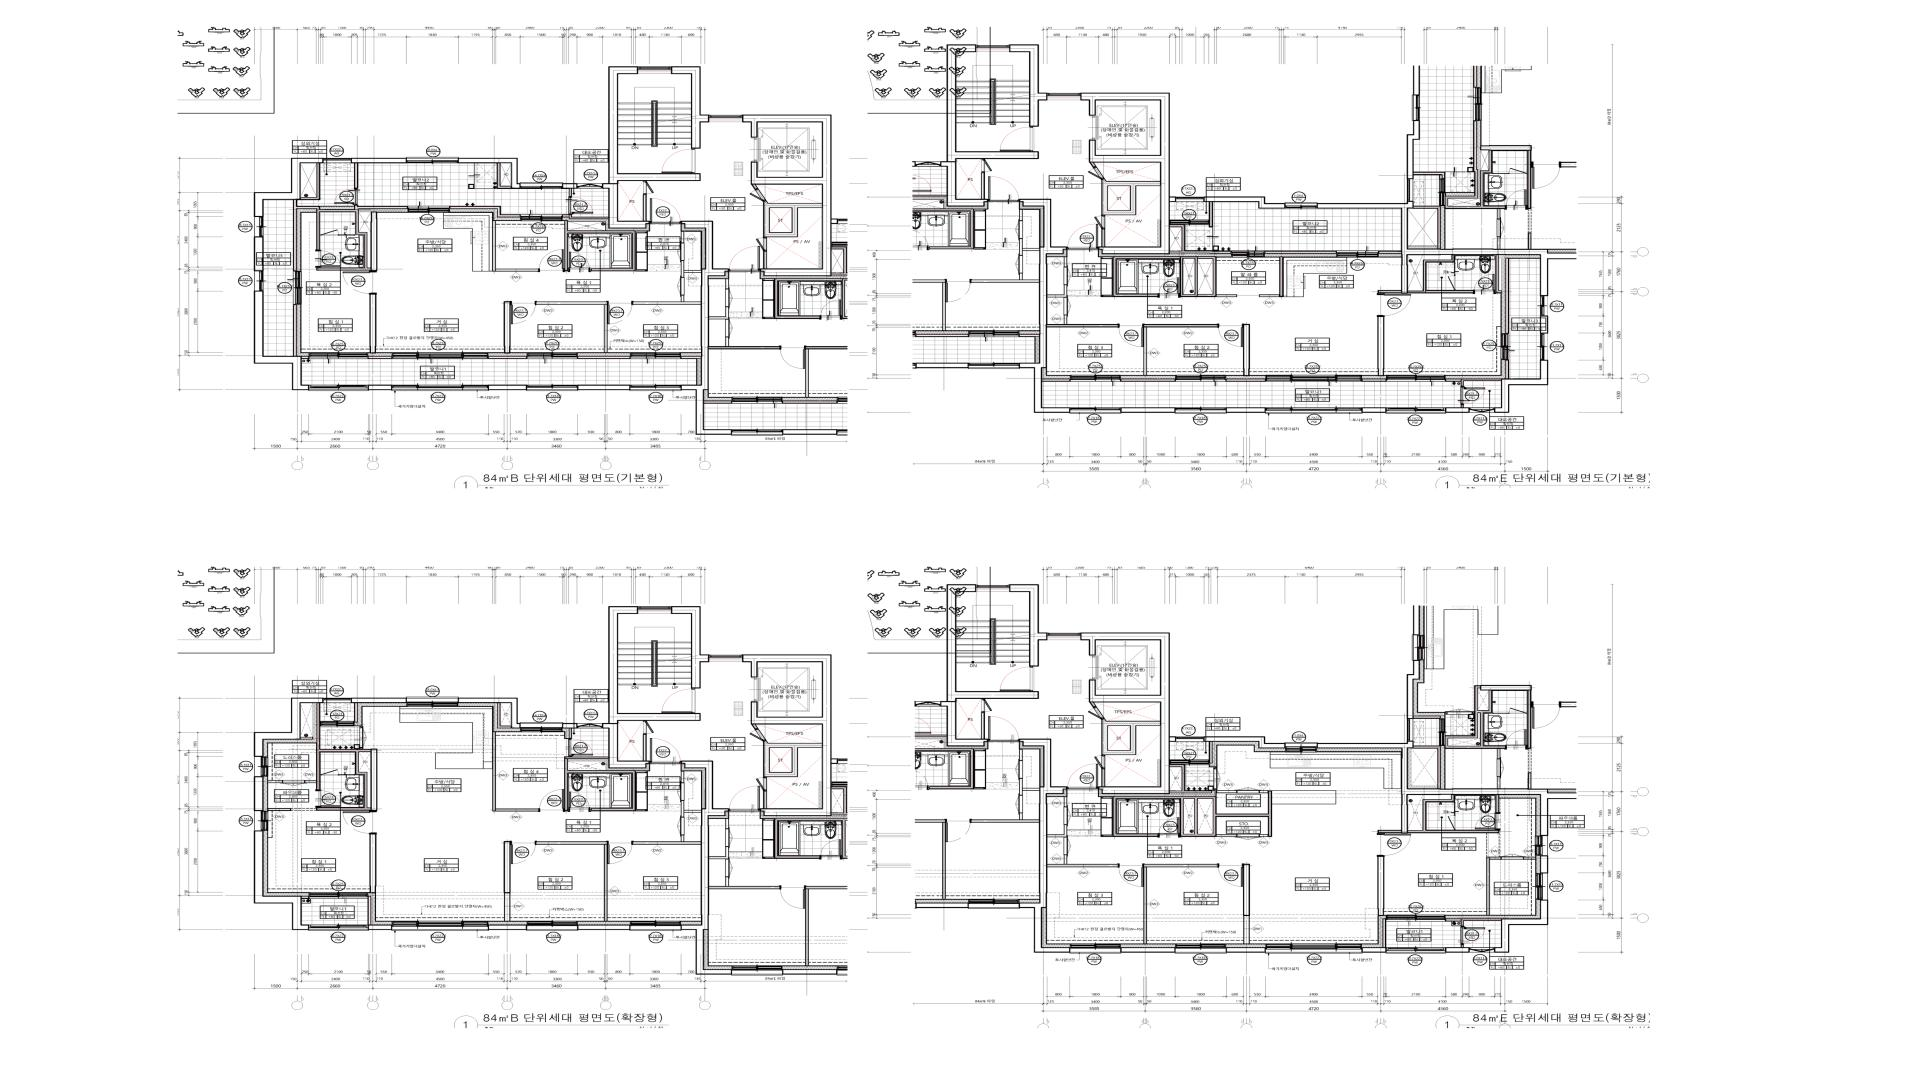door: (662, 688, 696, 713), (1000, 127, 1034, 152), (661, 149, 696, 173), (649, 198, 680, 224), (1067, 224, 1098, 251), (1377, 833, 1411, 857), (1000, 667, 1034, 691), (343, 270, 377, 294), (650, 738, 680, 765), (1068, 764, 1098, 790), (1377, 294, 1411, 316), (343, 811, 377, 833), (729, 247, 760, 272), (1118, 864, 1145, 887), (607, 841, 633, 865), (1218, 323, 1244, 347), (1118, 323, 1143, 347), (1217, 864, 1242, 887), (510, 841, 537, 864), (538, 249, 564, 272), (539, 790, 564, 812), (608, 302, 633, 324), (510, 302, 535, 324), (1158, 277, 1180, 298), (568, 791, 591, 812), (1461, 386, 1486, 405), (568, 738, 593, 757), (1461, 926, 1486, 944), (568, 196, 593, 215), (315, 249, 340, 268), (1158, 818, 1180, 837), (568, 252, 591, 272), (315, 790, 340, 807), (1476, 812, 1501, 829), (1474, 274, 1495, 294), (334, 189, 357, 204), (748, 729, 766, 745), (749, 189, 766, 204), (1087, 707, 1105, 721), (1085, 167, 1105, 181), (754, 237, 767, 252), (1213, 767, 1221, 790), (1093, 754, 1105, 769), (756, 777, 767, 791), (981, 699, 993, 712), (360, 727, 367, 749), (1502, 853, 1524, 860), (1237, 787, 1259, 794), (1095, 215, 1105, 228), (981, 160, 992, 173), (644, 721, 654, 735), (1448, 274, 1456, 290), (644, 182, 654, 194), (320, 229, 339, 236), (320, 769, 339, 775), (1237, 835, 1259, 840), (1448, 815, 1456, 829), (284, 781, 305, 786)
wall: (1316, 200, 1548, 297), (1316, 742, 1548, 836), (603, 66, 702, 228), (603, 607, 700, 769), (1080, 632, 1176, 794), (1081, 92, 1176, 255), (945, 584, 1039, 746), (947, 45, 1039, 207), (742, 115, 831, 276), (742, 655, 831, 816), (1019, 738, 1071, 953), (680, 222, 732, 435), (680, 761, 732, 975), (1019, 199, 1071, 413), (293, 200, 407, 272), (1113, 791, 1273, 837), (1143, 864, 1217, 945), (316, 703, 371, 811), (537, 841, 608, 922), (255, 291, 309, 390), (255, 831, 309, 930), (1113, 256, 1217, 297), (253, 158, 323, 218), (253, 698, 323, 757), (1143, 324, 1217, 376), (492, 732, 539, 811), (564, 220, 636, 272), (564, 760, 636, 811), (537, 302, 607, 352), (1407, 795, 1498, 833), (671, 66, 709, 149), (671, 605, 709, 688), (1009, 584, 1047, 666), (1010, 45, 1047, 127), (443, 212, 493, 272), (1494, 360, 1548, 413), (1494, 901, 1548, 953), (1408, 256, 1474, 293), (493, 222, 538, 272), (764, 740, 822, 777), (764, 200, 822, 237), (1101, 719, 1160, 754), (1101, 179, 1160, 215), (458, 158, 521, 189), (459, 698, 521, 728), (1170, 224, 1232, 253), (1170, 764, 1212, 794), (1204, 196, 1286, 208), (1204, 737, 1286, 749), (1047, 855, 1118, 868), (1486, 857, 1502, 915), (450, 206, 521, 218), (1047, 315, 1118, 327), (301, 164, 320, 200), (1242, 864, 1250, 944), (633, 295, 702, 305), (633, 836, 700, 845), (1197, 799, 1213, 833), (770, 208, 793, 232), (504, 841, 510, 922), (371, 749, 377, 811), (369, 294, 376, 353), (369, 835, 376, 894), (1378, 316, 1385, 376), (371, 212, 377, 270), (680, 261, 702, 278), (253, 237, 264, 272), (680, 800, 702, 818), (253, 777, 264, 811), (504, 302, 510, 353), (1244, 324, 1250, 376), (497, 164, 510, 189), (497, 703, 510, 728), (1461, 378, 1501, 386), (1378, 857, 1383, 915), (351, 158, 407, 164), (351, 698, 407, 703), (1506, 258, 1510, 334), (1121, 407, 1176, 413), (1121, 948, 1175, 953), (576, 924, 630, 930), (578, 385, 630, 390), (1461, 919, 1501, 926), (1047, 824, 1067, 837), (1226, 947, 1266, 953), (1495, 255, 1502, 294), (1047, 285, 1067, 298), (1120, 378, 1176, 382), (1225, 407, 1266, 413), (488, 385, 527, 390), (488, 924, 527, 930), (1279, 257, 1284, 297), (293, 305, 297, 356), (1265, 251, 1337, 253), (562, 215, 608, 219), (1225, 378, 1267, 382), (1445, 947, 1470, 953), (1362, 947, 1387, 953), (578, 356, 630, 359), (1540, 856, 1548, 873), (1540, 316, 1548, 334), (1362, 407, 1387, 413), (1445, 407, 1470, 413), (353, 164, 359, 189), (642, 195, 647, 220), (368, 385, 392, 390), (368, 924, 392, 930), (1382, 919, 1386, 948), (564, 757, 608, 760), (1042, 378, 1071, 382), (488, 356, 527, 359), (642, 735, 646, 761), (981, 712, 985, 738), (1209, 202, 1213, 228), (981, 173, 985, 199), (1378, 829, 1402, 833), (1378, 290, 1402, 294), (562, 183, 578, 189), (1209, 742, 1213, 764), (562, 723, 578, 728), (353, 703, 357, 723), (764, 251, 767, 269), (368, 897, 371, 924), (1506, 360, 1510, 378), (1101, 228, 1105, 247), (1361, 380, 1387, 382), (1101, 769, 1105, 786), (1495, 795, 1499, 812), (764, 791, 767, 808), (368, 356, 393, 359), (268, 808, 291, 811), (1445, 378, 1461, 382), (1378, 251, 1402, 253), (1216, 790, 1237, 793), (1217, 835, 1237, 837), (680, 356, 700, 359), (1259, 294, 1279, 297), (1217, 294, 1237, 297), (1089, 162, 1097, 169), (680, 231, 684, 243), (680, 771, 684, 783), (1445, 919, 1461, 922), (268, 781, 284, 783), (568, 729, 572, 738), (752, 185, 758, 190), (1524, 857, 1536, 860), (1101, 835, 1113, 837), (1089, 703, 1097, 707), (301, 737, 313, 740), (305, 781, 316, 783), (568, 189, 572, 196), (1101, 257, 1113, 260), (1064, 796, 1067, 807), (752, 725, 758, 729), (1259, 790, 1269, 793), (1064, 257, 1067, 266), (1259, 835, 1267, 837), (302, 356, 309, 359), (302, 897, 309, 899), (1101, 796, 1113, 798), (1101, 295, 1113, 297), (1461, 944, 1464, 947), (1461, 405, 1464, 407)
window: (392, 920, 488, 931), (1266, 944, 1362, 953), (392, 385, 488, 392), (1266, 407, 1362, 414), (393, 352, 488, 359), (1266, 375, 1361, 381), (407, 696, 459, 707), (630, 920, 680, 931), (1175, 944, 1226, 953), (527, 922, 578, 931), (1071, 944, 1121, 953), (520, 723, 563, 732), (309, 924, 368, 931), (309, 893, 368, 899), (1386, 915, 1445, 922), (309, 385, 368, 392), (1176, 375, 1225, 382), (1387, 947, 1445, 953), (1387, 407, 1445, 414), (310, 352, 367, 359), (1535, 873, 1548, 901), (407, 157, 458, 164), (630, 352, 680, 359), (630, 385, 680, 392), (527, 385, 578, 392), (1176, 407, 1226, 414), (1071, 407, 1121, 414), (1071, 375, 1121, 381), (1387, 376, 1445, 381), (293, 272, 302, 305), (1286, 742, 1316, 752), (407, 206, 448, 212), (521, 182, 562, 189), (521, 215, 562, 222), (1337, 251, 1378, 257), (527, 353, 578, 359), (638, 66, 671, 74), (709, 115, 742, 123), (255, 811, 268, 831), (255, 757, 268, 777), (1535, 836, 1548, 856), (709, 654, 742, 662), (1047, 92, 1080, 100), (1501, 334, 1510, 360), (638, 607, 671, 613), (1047, 633, 1080, 640), (976, 585, 1009, 592), (1232, 251, 1265, 257), (1540, 334, 1548, 360), (1170, 220, 1209, 225), (255, 272, 264, 291), (320, 721, 355, 727), (976, 46, 1009, 51), (255, 218, 264, 236), (1286, 203, 1316, 208), (1170, 760, 1209, 764), (1540, 297, 1548, 316), (323, 698, 351, 703), (323, 158, 351, 164), (1176, 196, 1204, 202), (578, 183, 603, 189), (578, 723, 601, 728), (1470, 407, 1494, 413), (1176, 737, 1204, 741), (1470, 948, 1494, 952)
